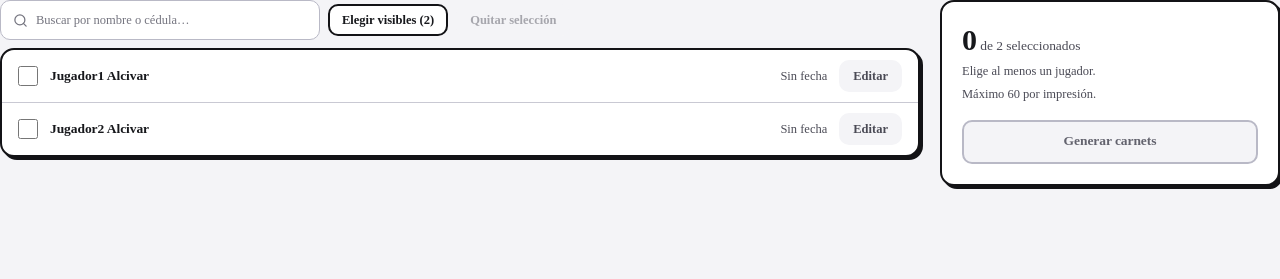
Test: CarnetPicker — «Miembro desde» on the row (#1749, S1) › saves in place: the row shows the new date, the list is not reloaded and the selection is kept
Click the checkbox named "Elegir a Jugador2 Alcivar".
click(28, 129)  # box [18, 119, 38, 139]
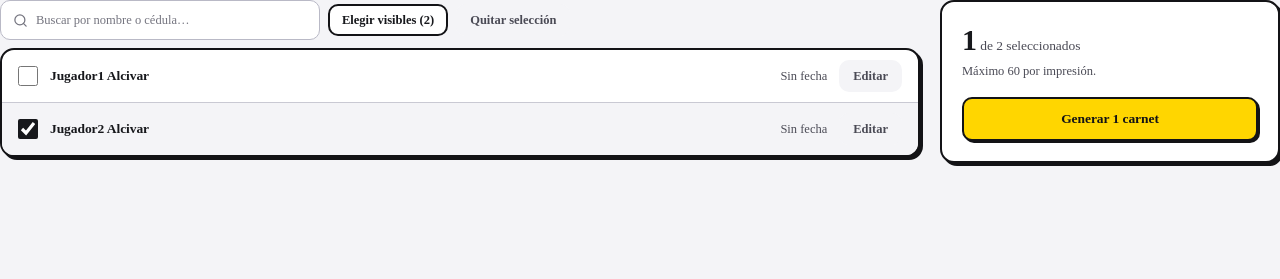
Click the button with aria-label "Editar Miembro desde de Jugador1 Alcivar".
click(871, 76)  # box [839, 60, 902, 92]
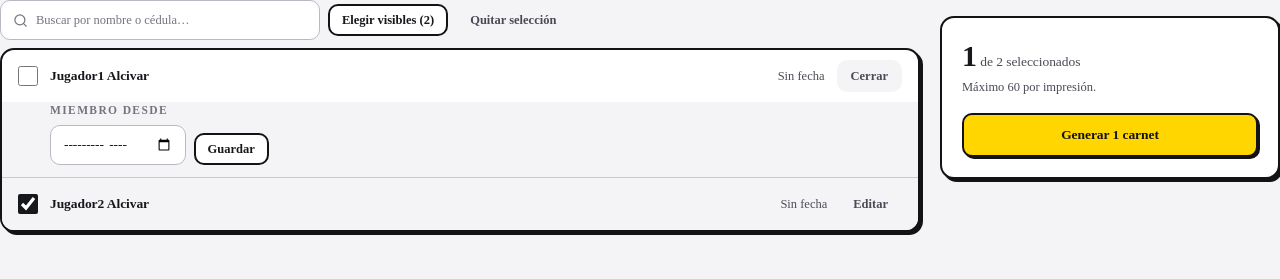
Type "2019-03" into the field named "Miembro desde de Jugador1 Alcivar".
click(118, 145); type("2019-03")  # box [50, 125, 186, 165]
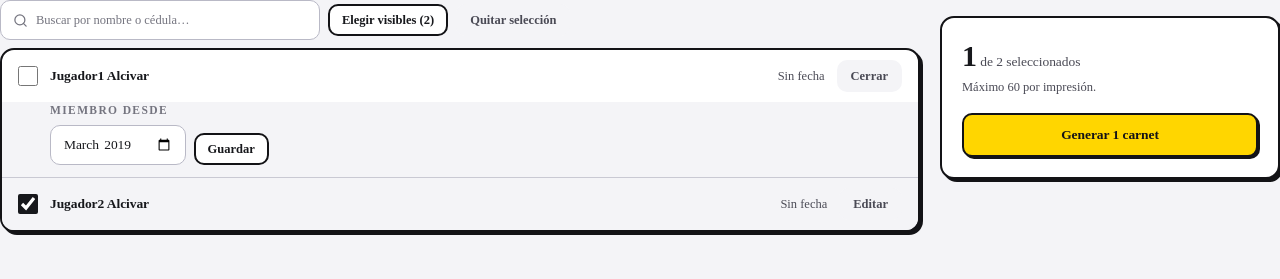
Click the button "Guardar".
click(231, 149)  # box [194, 133, 269, 165]
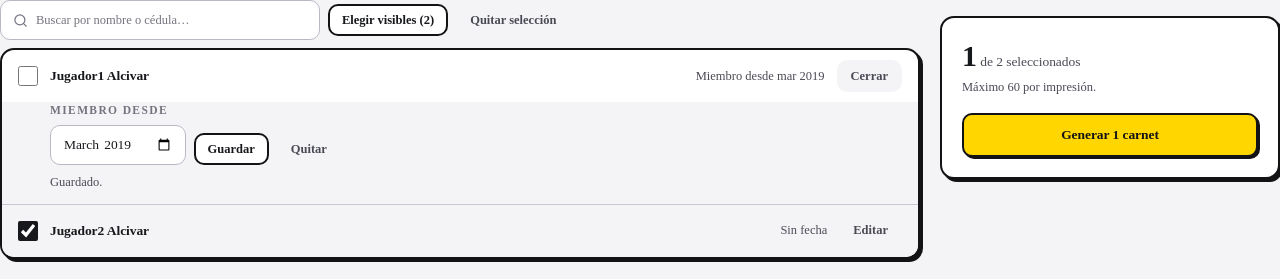
expect the message "1 de 2 seleccionados" is shown: met, box [962, 39, 1080, 72]
expect the text "Miembro desde mar 2019" is shown: met, box [696, 67, 824, 85]
